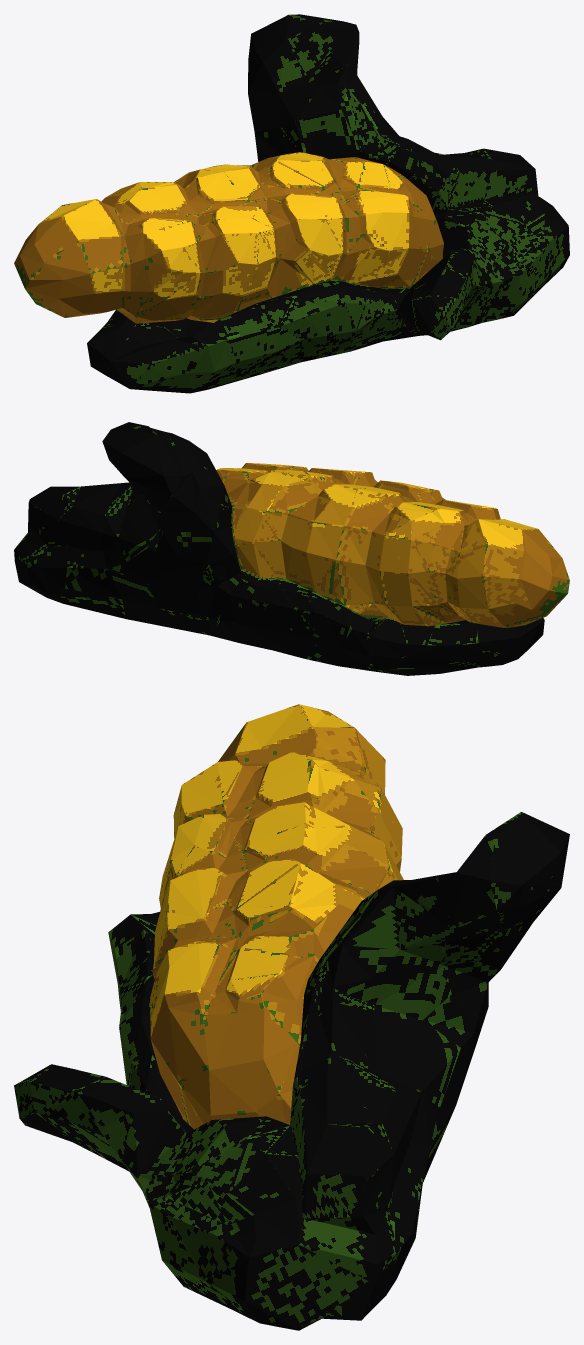
The picture shows the model from 3 angles, top to bottom: view 1: azimuth 30°, elevation 25°; view 2: azimuth 150°, elevation 25°; view 3: azimuth 270°, elevation 25°; orthographic projection. The views are drawn at different scales.
Visible parts, largest first — view 1: OBJ0b4; view 2: OBJ0b4; view 3: OBJ0b4.
Part boxes in pixels (x1=…): OBJ0b4: x1=14, y1=14, x2=569, y2=393; OBJ0b4: x1=14, y1=422, x2=569, y2=675; OBJ0b4: x1=14, y1=704, x2=569, y2=1330.
Size of the model in its own units: 0.3141 by 0.1492 by 0.1831.
1 material, 1 textured.
